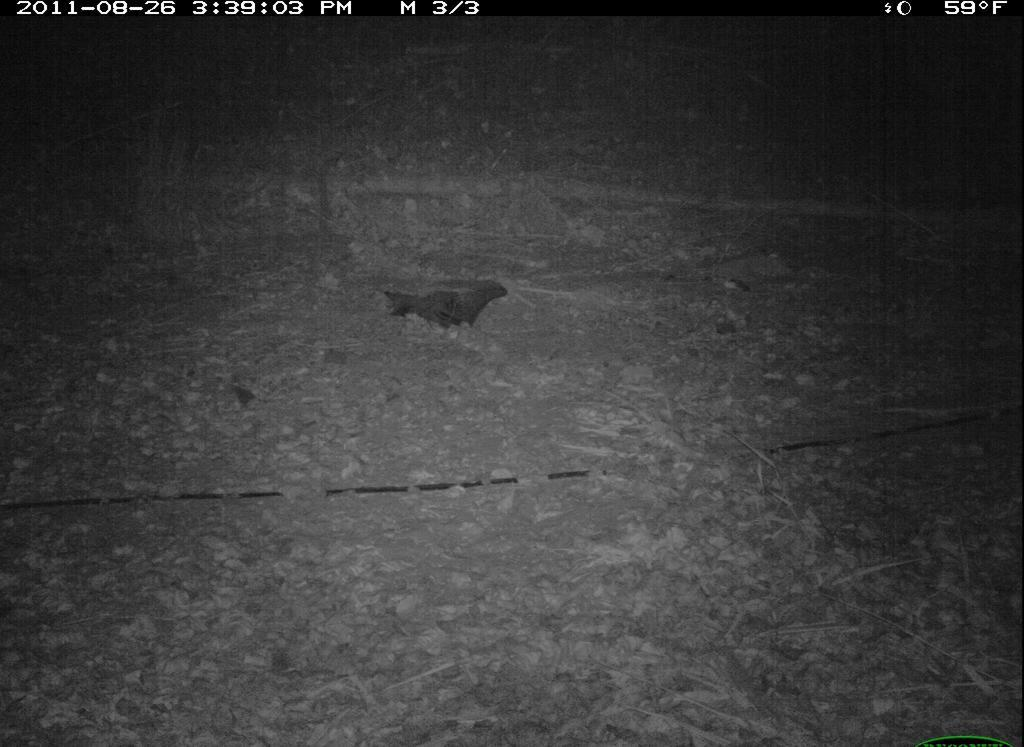coyote: (347, 236, 557, 372)
